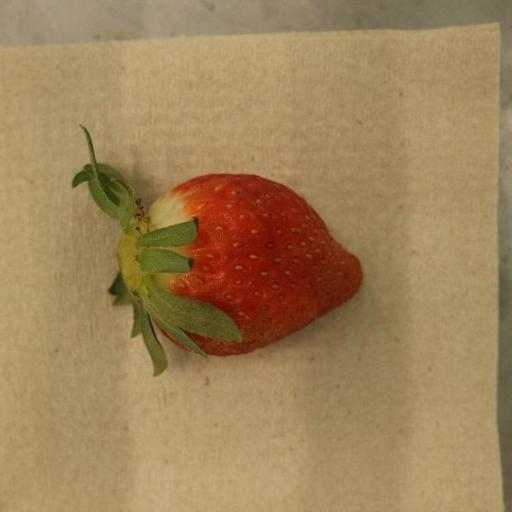Strawberry: (71, 128, 364, 376)
